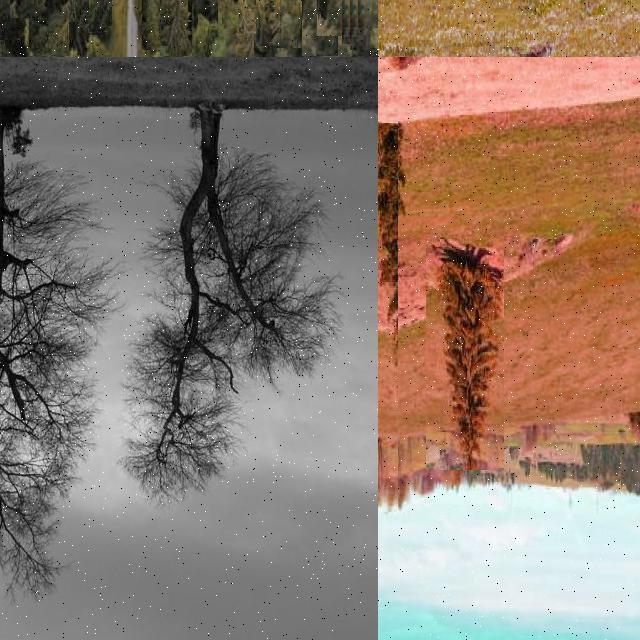tree: (117, 100, 340, 518), (0, 98, 114, 610), (426, 234, 504, 470), (378, 108, 398, 512), (44, 0, 108, 42), (14, 0, 54, 56), (29, 0, 69, 56), (290, 0, 330, 56), (316, 10, 360, 58), (302, 0, 338, 56), (236, 0, 272, 56), (22, 7, 62, 57), (190, 11, 232, 57), (160, 0, 192, 56), (261, 0, 301, 44), (62, 0, 98, 48), (342, 0, 378, 44), (274, 0, 304, 48), (350, 0, 378, 50), (350, 0, 378, 50), (75, 31, 117, 58), (358, 0, 378, 56), (256, 0, 280, 46), (317, 0, 347, 36), (346, 0, 374, 38), (142, 0, 160, 50), (321, 0, 344, 36), (232, 1, 255, 36), (0, 0, 20, 40), (56, 0, 84, 28), (237, 0, 263, 28), (342, 0, 366, 30), (239, 0, 259, 34), (212, 0, 236, 28), (28, 0, 52, 28), (358, 0, 378, 32), (358, 0, 378, 32), (14, 0, 38, 26), (76, 0, 98, 28), (0, 0, 21, 28), (360, 0, 378, 32), (320, 0, 344, 24), (89, 0, 107, 32), (358, 0, 378, 28), (358, 0, 378, 28), (212, 1, 230, 32), (210, 0, 230, 26), (168, 0, 188, 26), (198, 0, 218, 26), (155, 0, 173, 28), (188, 0, 216, 18), (140, 0, 156, 30), (38, 0, 58, 24), (222, 0, 238, 28), (177, 0, 195, 24), (10, 0, 34, 18), (96, 0, 112, 26), (364, 0, 378, 28), (83, 0, 99, 24), (194, 0, 210, 24), (362, 0, 378, 22), (364, 0, 378, 24), (366, 0, 378, 28), (366, 0, 378, 24), (83, 0, 97, 20), (370, 0, 378, 28), (157, 0, 170, 16), (370, 0, 378, 16)
